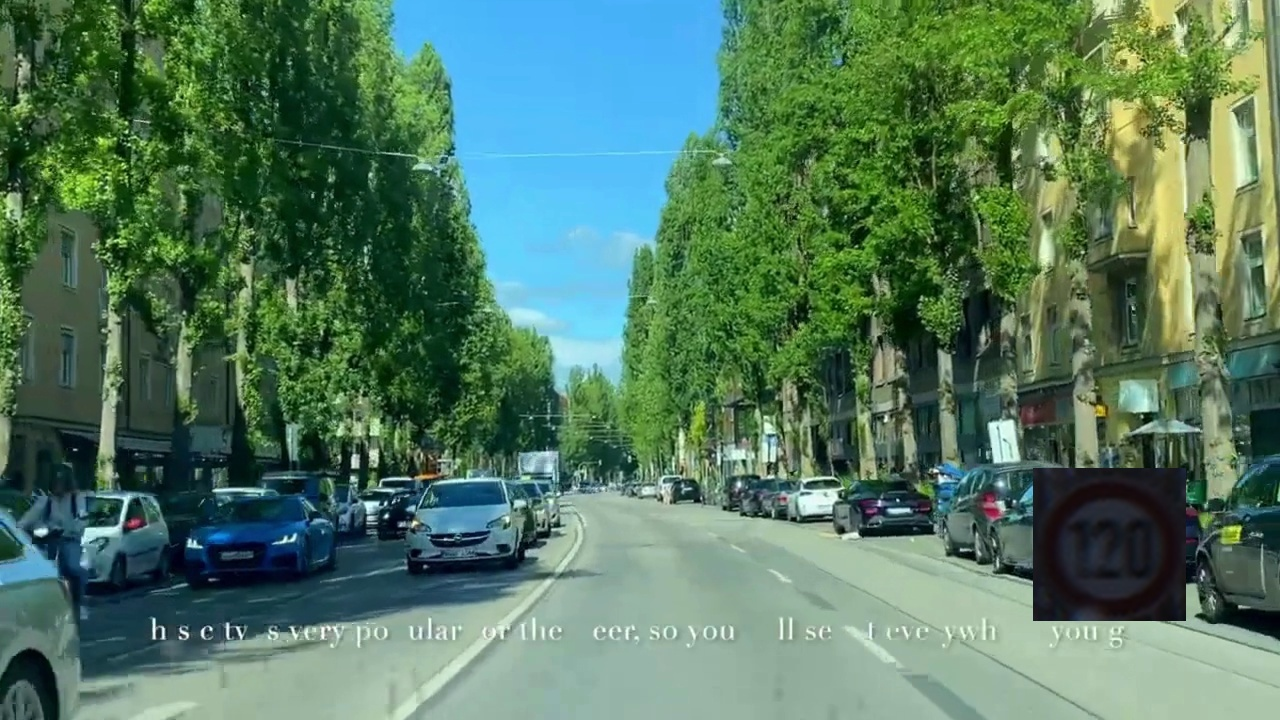Speed 120: (1033, 468, 1186, 621)
